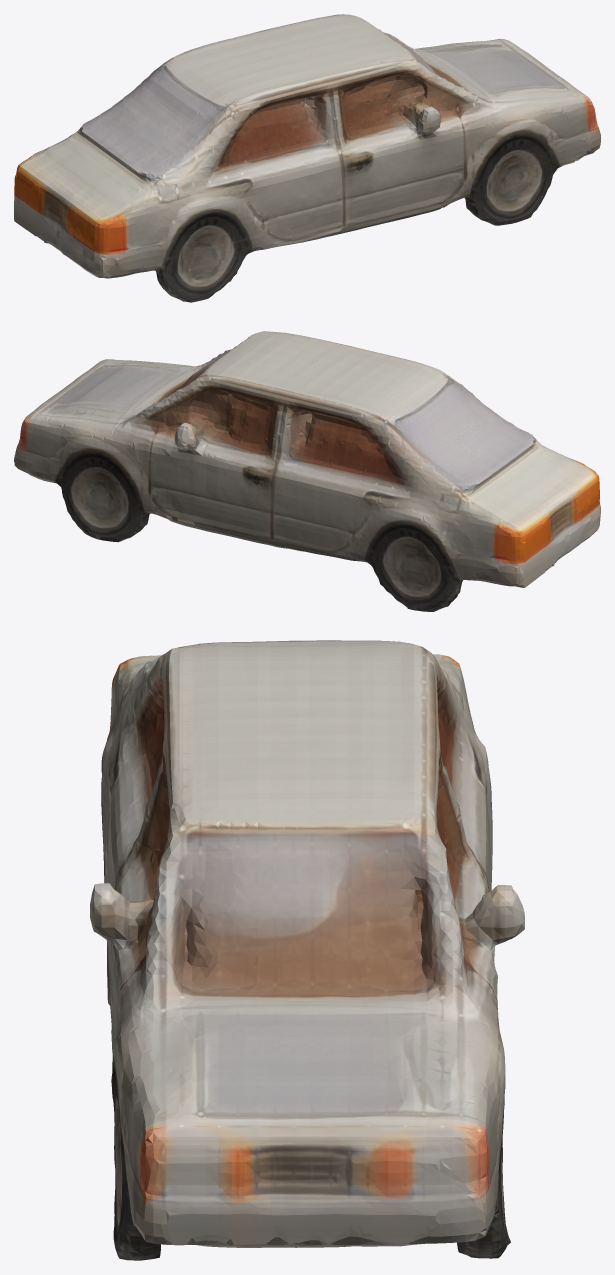
3 renders of one model, top to bottom at view 1: azimuth 30°, elevation 25°; view 2: azimuth 150°, elevation 25°; view 3: azimuth 270°, elevation 25°, orthographic. The views are drawn at different scales.
Parts seen in each view (by area): view 1: input.obj; view 2: input.obj; view 3: input.obj.
Boxes of the visible parts, bbox=[...] form: input.obj: bbox=[14, 14, 600, 302]; input.obj: bbox=[14, 331, 600, 611]; input.obj: bbox=[90, 640, 524, 1260].
Bounding box in the file's own units: 2.97 × 1 × 1.11.
1 material, 1 textured.
